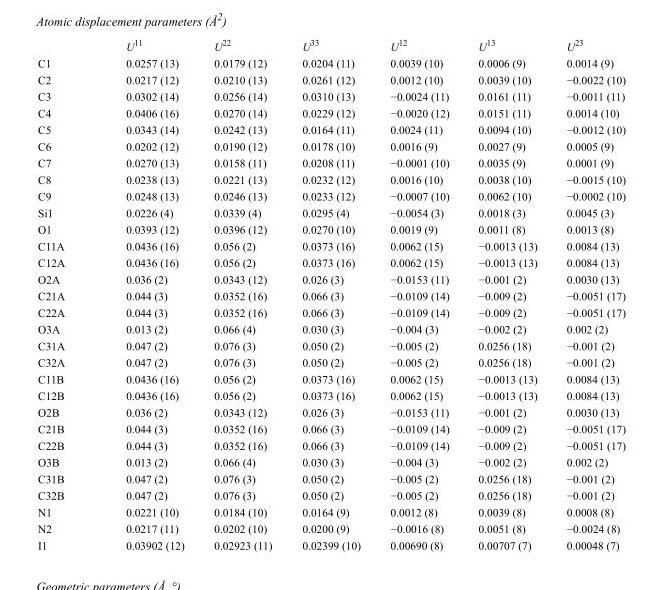table: (37, 37, 624, 551)
table column: (94, 37, 198, 551), (374, 37, 463, 551), (198, 37, 286, 551), (286, 37, 374, 551), (463, 37, 551, 551), (551, 37, 624, 551), (37, 37, 94, 551)
table column header: (37, 37, 624, 54)
table row: (37, 37, 624, 54), (37, 54, 624, 71), (37, 87, 624, 104), (37, 120, 624, 137), (37, 137, 624, 154), (37, 170, 624, 187), (37, 187, 624, 204), (37, 220, 624, 237), (37, 253, 624, 270), (37, 270, 624, 287), (37, 303, 624, 320), (37, 320, 624, 337), (37, 353, 624, 370), (37, 386, 624, 403), (37, 403, 624, 420), (37, 436, 624, 453), (37, 453, 624, 470), (37, 486, 624, 503), (37, 519, 624, 536), (37, 71, 624, 87), (37, 104, 624, 120), (37, 154, 624, 170), (37, 204, 624, 220), (37, 237, 624, 253), (37, 287, 624, 303), (37, 337, 624, 353), (37, 370, 624, 386), (37, 420, 624, 436), (37, 470, 624, 486), (37, 503, 624, 519), (37, 536, 624, 551)
